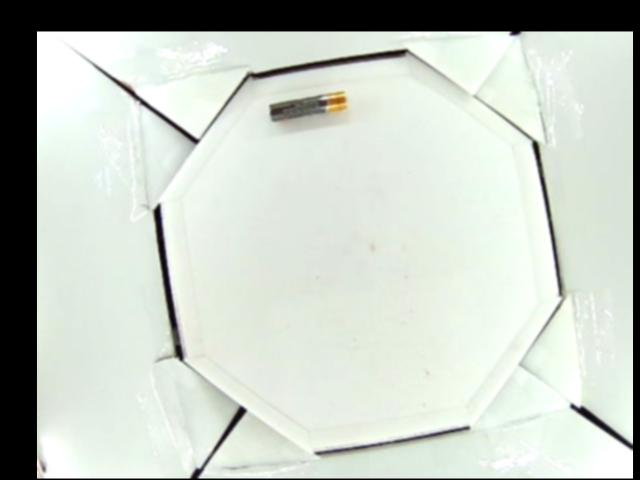Battery: (268, 91, 347, 125)
